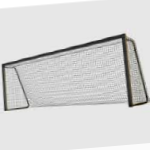goals: (1, 32, 150, 111)
